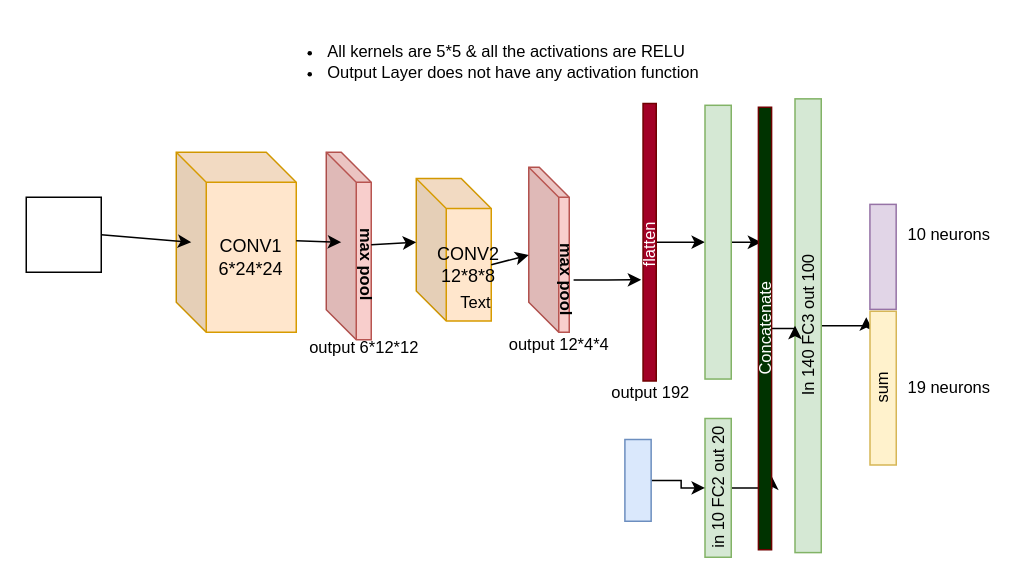
This 1028x584 diagram has some shape labels left out. The shapes that lost their labels are listed below. From the top down, each one's centre as x and y in pixels, then its label:
At point 63,234: "MNIST 1*28*28".
At point 717,241: "In192 FC1 Out 120".
At point 882,256: "mnist".
At point 637,479: "1- hot vector".
